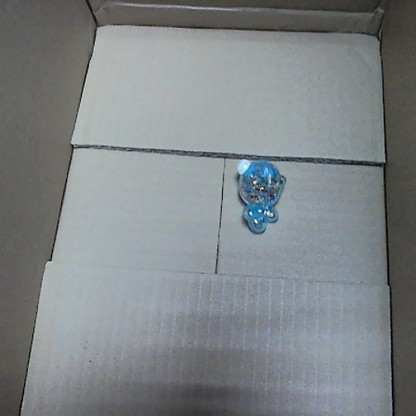bluefish: (231, 154, 286, 233)
